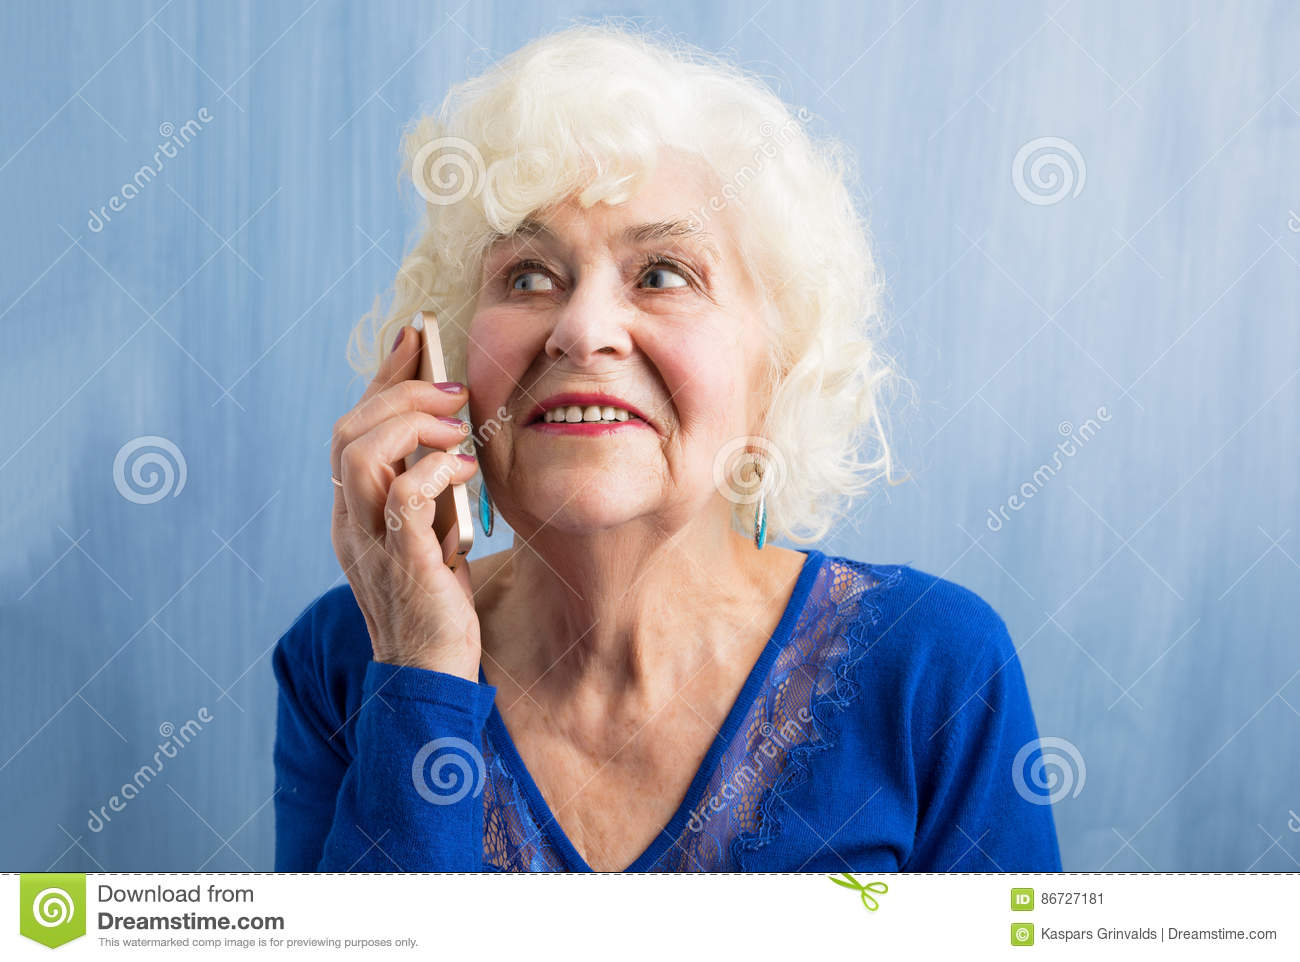phone: (393, 292, 481, 581)
talk: (332, 211, 735, 704)
